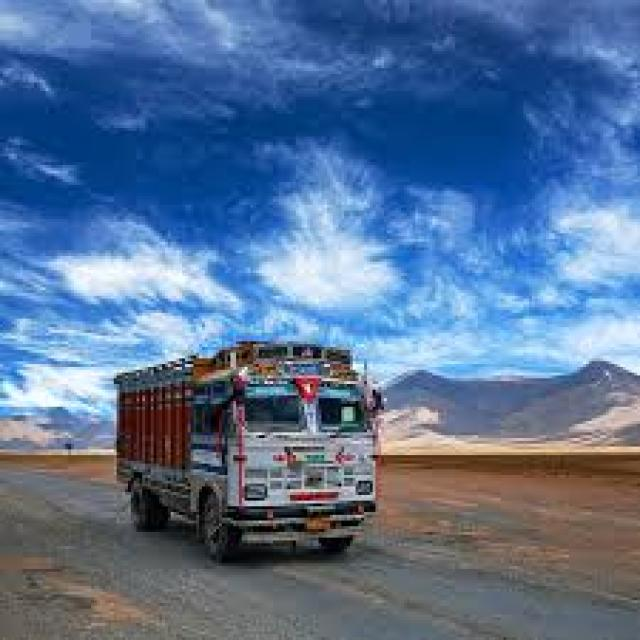Vehicles: (104, 330, 396, 564)
